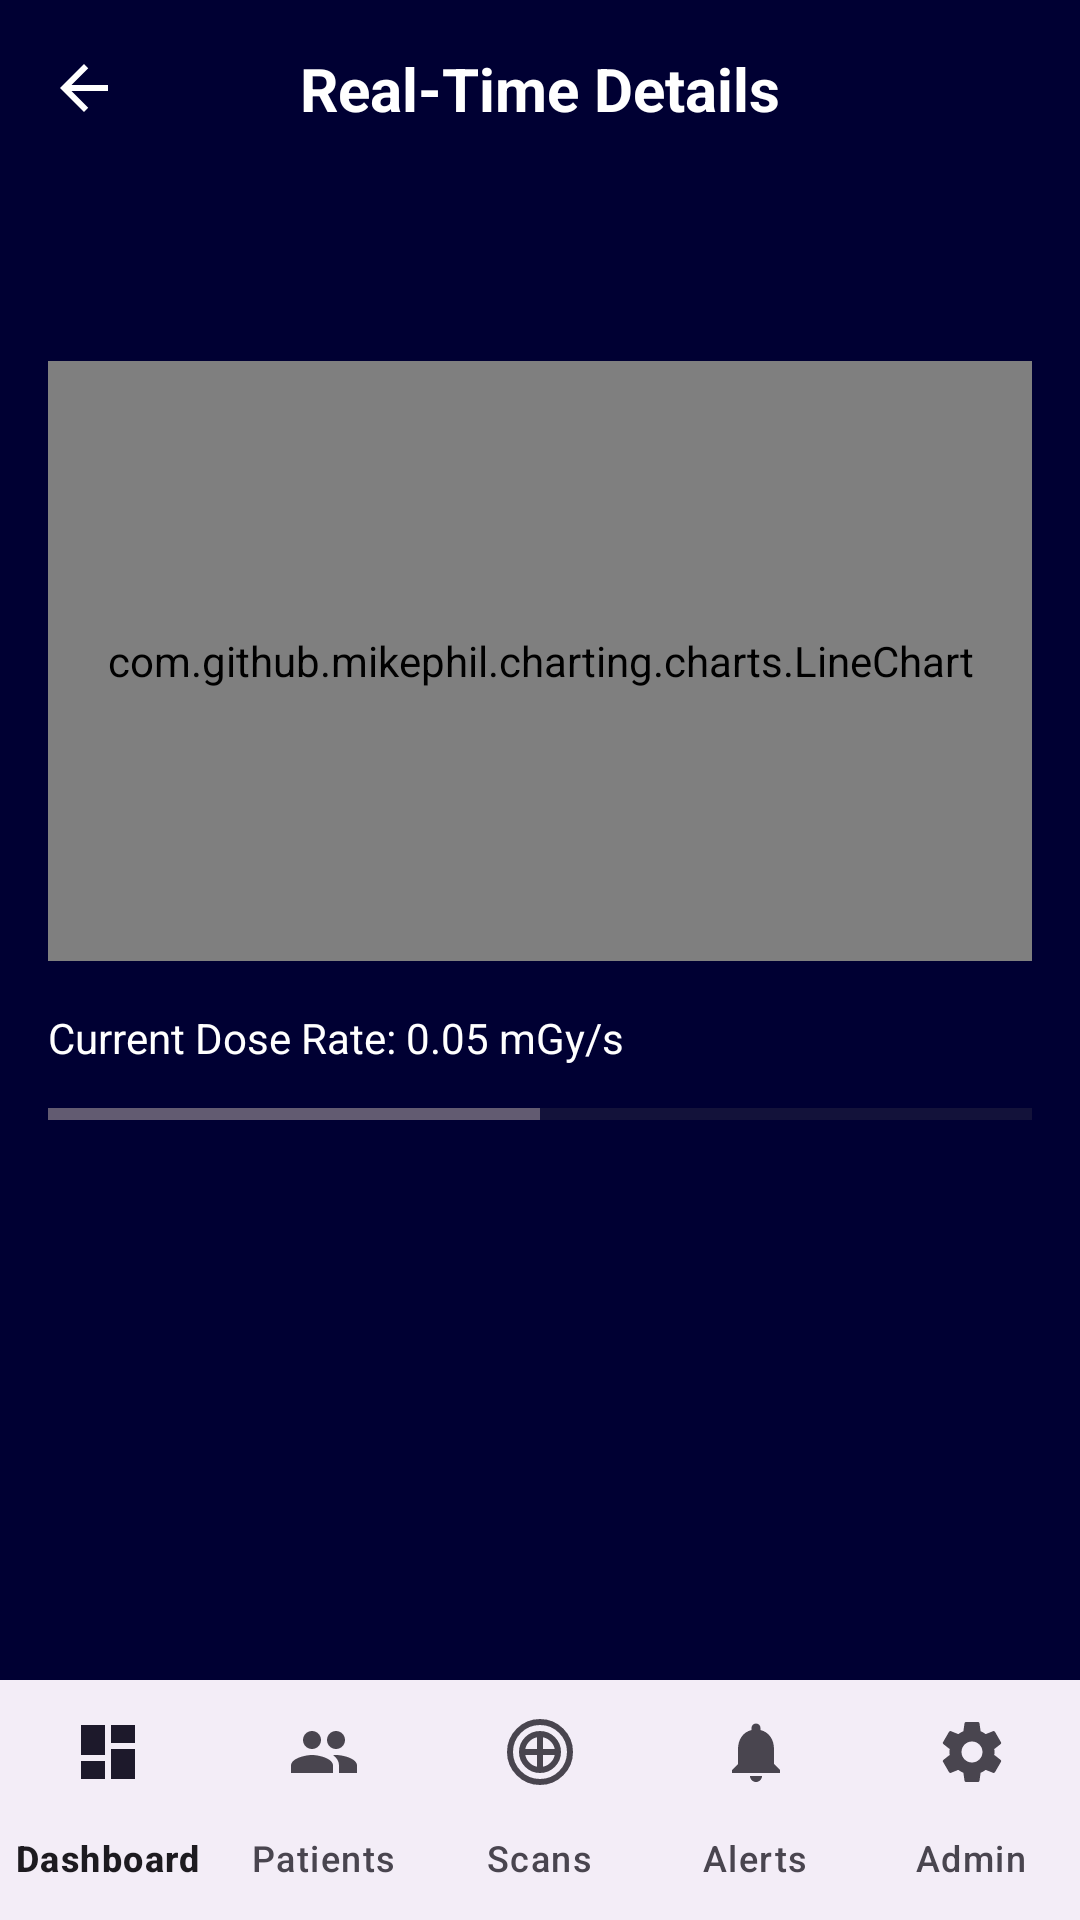

Icons on this 1080 x 1920 Android screen, each with the point to tap as (x=x, y=y):
arrow back: (x=84, y=88)
